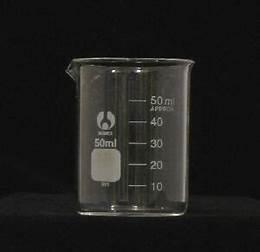Beaker: (62, 51, 199, 220)
